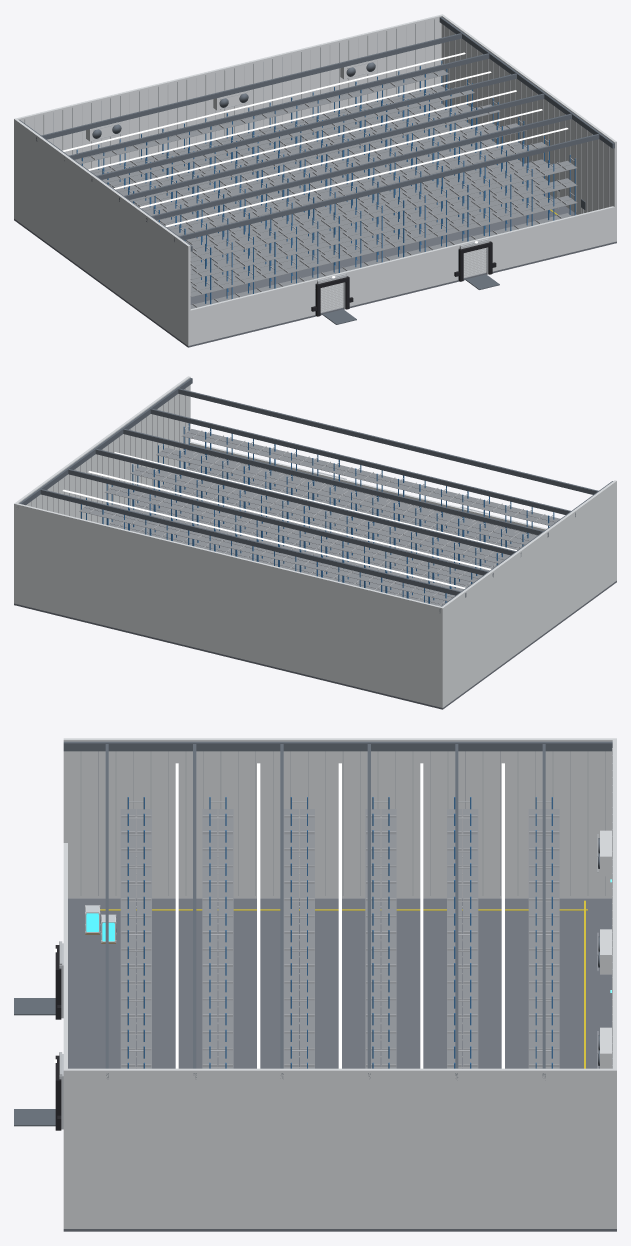
The model's file is coldroom_hi.glb.
3 views of the same model, one above another, from view 1: azimuth 30°, elevation 25°; view 2: azimuth 150°, elevation 25°; view 3: azimuth 270°, elevation 25° (orthographic). The views are drawn at different scales.
Visible parts, largest first — view 1: Shell_WallPanels, Shell_RoofGirders, Rack_01_Decks, Rack_02_Decks, Rack_06_Decks, Rack_05_Decks, Rack_04_Decks, Rack_03_Decks, Device_CeilingLights, Shell_WallSeams, Shell_Floor, Rack_01_Frames (+17 smaller); view 2: Shell_WallPanels, Shell_RoofGirders, Rack_01_Decks, Rack_04_Decks, Rack_03_Decks, Rack_02_Decks, Rack_05_Decks, Device_CeilingLights, Shell_Floor, Rack_01_Frames, Rack_03_Frames, Rack_02_Frames (+7 smaller); view 3: Shell_WallPanels, Shell_Floor, Shell_RoofGirders, Rack_02_Decks, Rack_01_Decks, Rack_03_Decks, Rack_06_Decks, Rack_04_Decks, Rack_05_Decks, Device_CeilingLights, Shell_WallSeams, Device_Cooler_Body (+14 smaller).
Part boxes in pixels (x1,y1,x2,y2): Shell_WallPanels: (14,14,616,345); Shell_RoofGirders: (19,17,614,251); Rack_01_Decks: (190,160,577,308); Rack_02_Decks: (173,142,547,287); Rack_06_Decks: (75,70,448,188); Rack_05_Decks: (96,85,474,207); Rack_04_Decks: (122,104,500,225); Rack_03_Decks: (147,123,525,262); Device_CeilingLights: (62,52,568,226); Shell_WallSeams: (24,19,609,213); Shell_Floor: (14,193,616,347); Rack_01_Frames: (205,155,575,304); Shell_WallPanels: (14,376,616,707); Shell_RoofGirders: (19,378,612,612); Rack_01_Decks: (182,429,560,550); Rack_04_Decks: (105,485,482,606); Rack_03_Decks: (130,466,508,587); Rack_02_Decks: (156,447,534,569); Rack_05_Decks: (79,506,454,601); Device_CeilingLights: (62,452,516,588); Shell_Floor: (14,581,616,709); Rack_01_Frames: (183,423,554,547); Rack_03_Frames: (132,464,502,584); Rack_02_Frames: (158,444,528,565); Shell_WallPanels: (63,738,616,1228); Shell_Floor: (63,898,616,1231); Shell_RoofGirders: (63,741,612,1078); Rack_02_Decks: (202,809,233,1068); Rack_01_Decks: (120,809,151,1068); Rack_03_Decks: (283,809,314,1068); Rack_06_Decks: (528,809,559,1068); Rack_04_Decks: (365,809,396,1068); Rack_05_Decks: (447,809,478,1068); Device_CeilingLights: (175,763,504,1068); Shell_WallSeams: (80,748,612,1068); Device_Cooler_Body: (600,830,611,1068).
Bounding box in the file's own units: 54 × 12.2 × 41.4.
